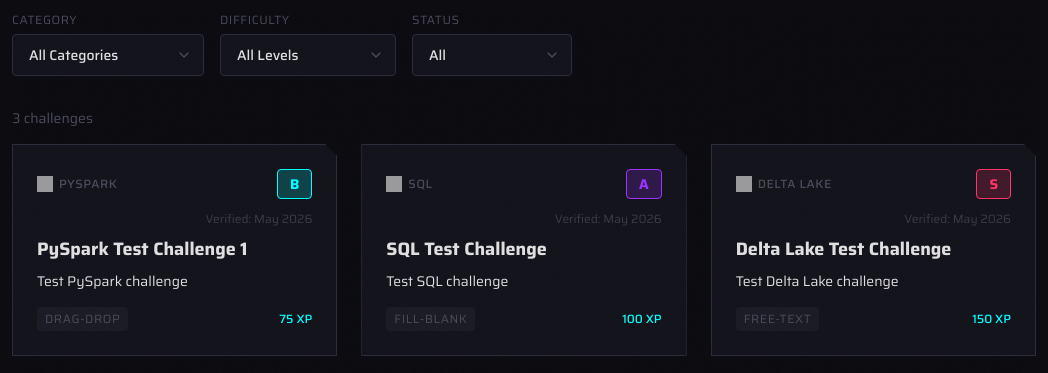
Test: ChallengeGridClient › difficulty filtering › filters by difficulty when selected
The width and height of the screenshot is (1048, 373).
Select "A — Intermediate" in the dropdown labelled "Difficulty" at (308, 55), box [220,34,396,76]
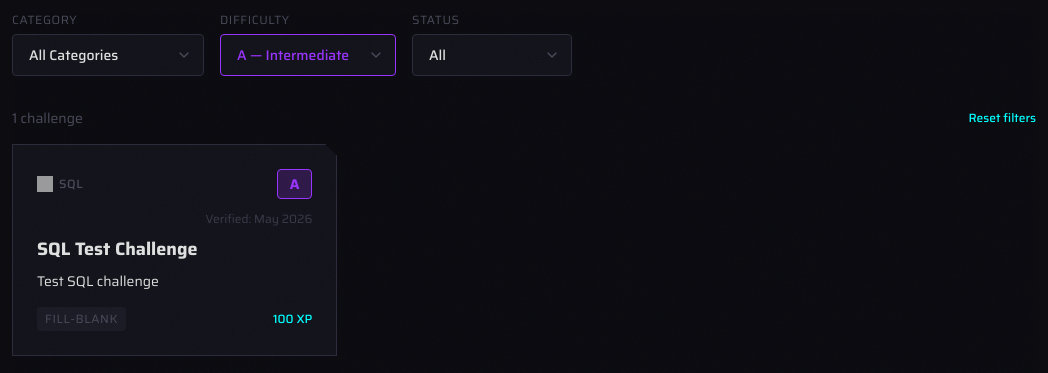
Expected: the heading "SQL Test Challenge" is shown, [37,235,198,263]
Expected: the heading "PySpark Test Challenge 1" is gone
Expected: the heading "Delta Lake Test Challenge" is gone
